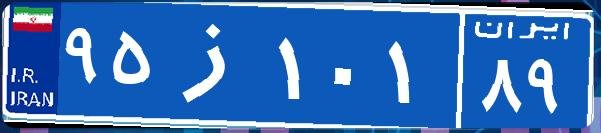0: (330, 28, 385, 110)
1: (385, 28, 445, 110), (273, 28, 330, 110)
5: (110, 28, 158, 105)
8: (475, 38, 525, 113)
9: (57, 26, 110, 107), (525, 38, 570, 115)
ز: (158, 15, 273, 115)
